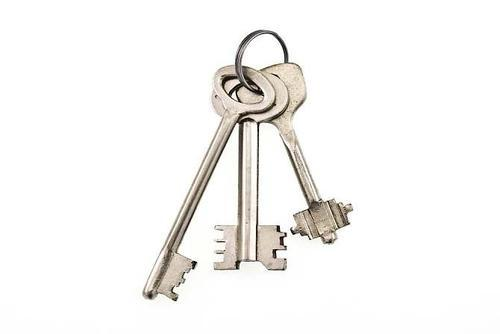key: (130, 52, 279, 306), (229, 58, 378, 256), (202, 55, 297, 298)
